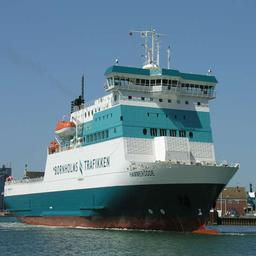Ship: (4, 33, 244, 235)
